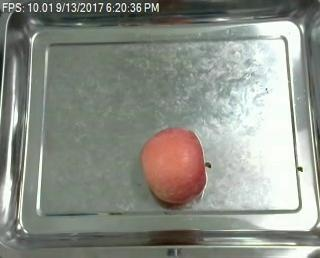apple: (140, 127, 208, 205)
